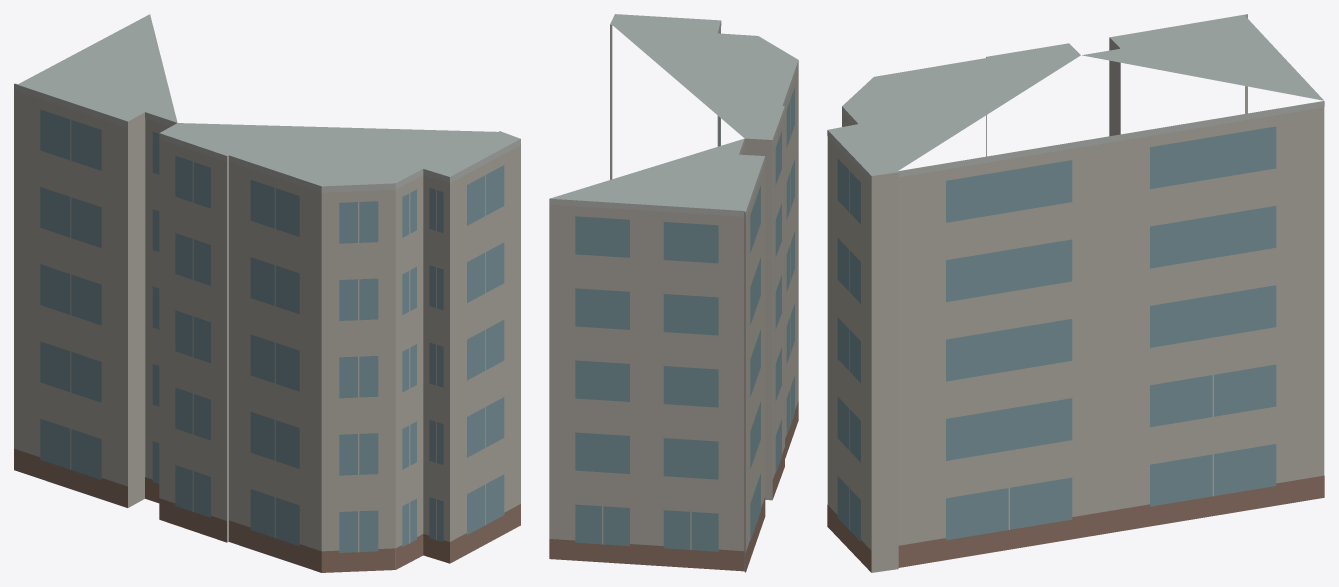
File: survey-upis-32843623.glb
3 views of the same model, side by side, from view 1: azimuth 30°, elevation 25°; view 2: azimuth 150°, elevation 25°; view 3: azimuth 270°, elevation 25° (orthographic). The views are drawn at different scales.
Parts seen in each view (by area): view 1: survey-upis-32843623.tmp; view 2: survey-upis-32843623.tmp; view 3: survey-upis-32843623.tmp.
Part boxes in pixels (box(x1,y1,x2,y2)): survey-upis-32843623.tmp: box(14, 14, 520, 572); survey-upis-32843623.tmp: box(549, 14, 798, 572); survey-upis-32843623.tmp: box(827, 14, 1324, 572).
Size of the model in its own units: 13.41 by 15.3 by 17.38.
